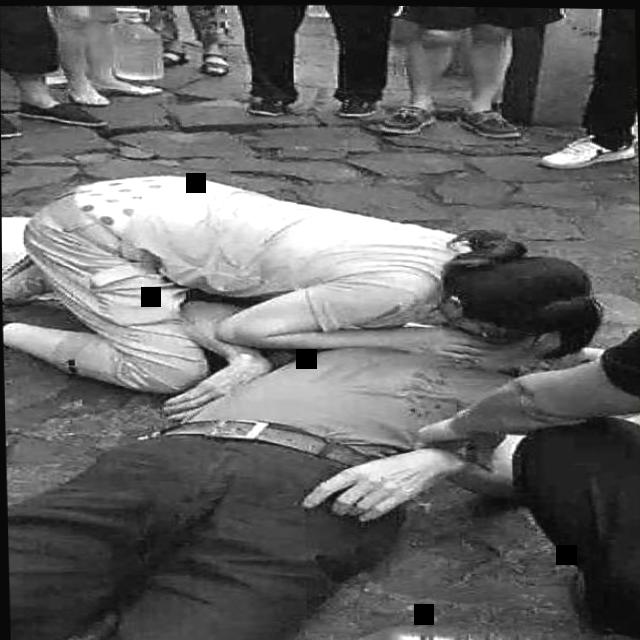Fall-Detected: (2, 263, 586, 640)
